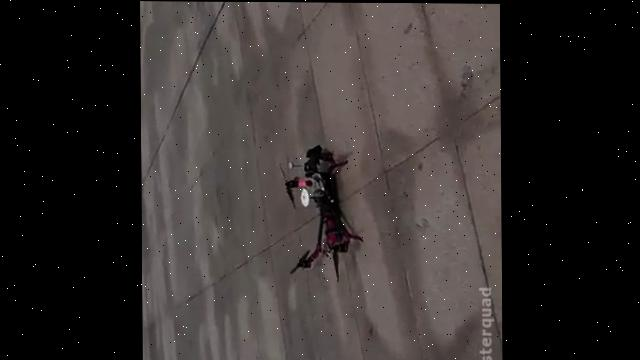drone: (273, 141, 364, 283)
